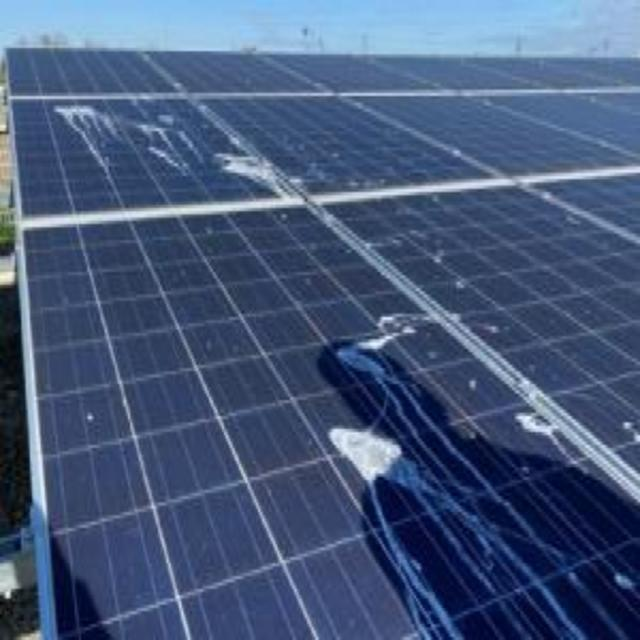soiled: (19, 86, 640, 640)
